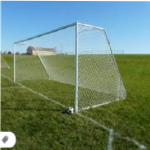goals: (11, 21, 127, 112)
